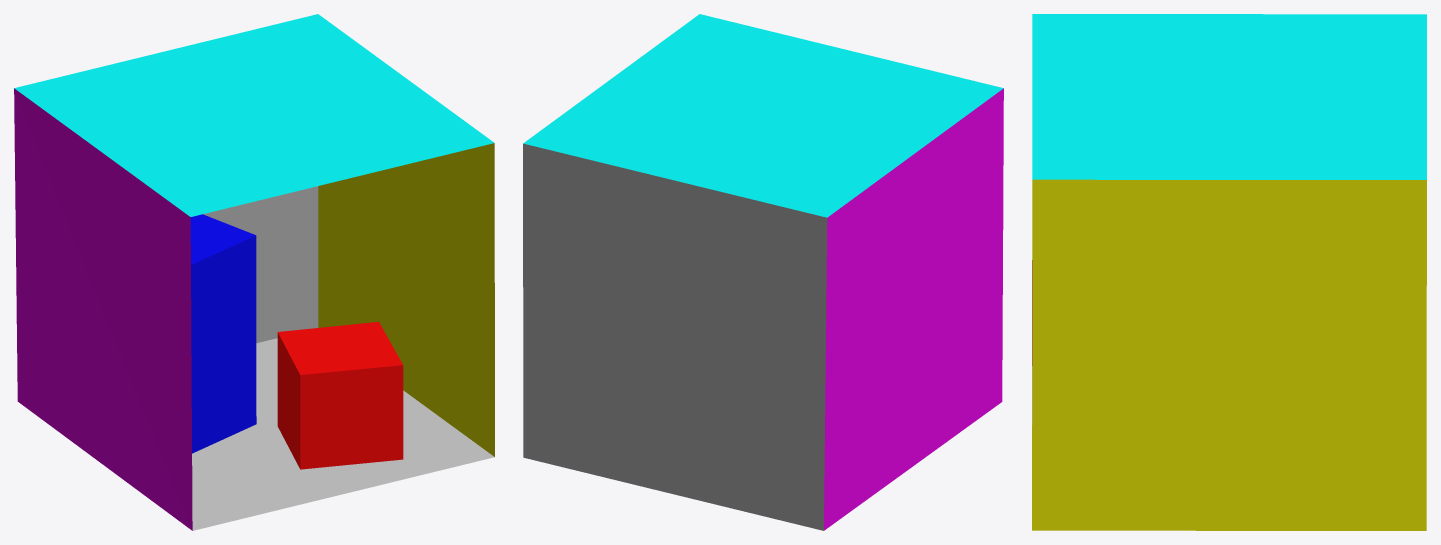
Rendered from textured-cornell-box.obj.
3 views of the same model, side by side, from view 1: azimuth 30°, elevation 25°; view 2: azimuth 150°, elevation 25°; view 3: azimuth 270°, elevation 25° (orthographic). The views are drawn at different scales.
Visible parts, largest first — view 1: left_wall, ceiling, right_wall, floor, short_box, tall_box_front, back_wall, tall_box; view 2: back_wall, left_wall, ceiling; view 3: right_wall, ceiling.
Part boxes in pixels (<box>): left_wall: <box>14,88,192,530</box>; ceiling: <box>14,14,494,216</box>; right_wall: <box>318,143,494,456</box>; floor: <box>192,338,494,530</box>; short_box: <box>277,322,403,469</box>; tall_box_front: <box>191,235,256,453</box>; back_wall: <box>203,186,318,343</box>; tall_box: <box>190,214,255,264</box>; back_wall: <box>523,143,827,530</box>; left_wall: <box>824,88,1003,530</box>; ceiling: <box>523,14,1003,217</box>; right_wall: <box>1032,179,1426,530</box>; ceiling: <box>1032,14,1426,179</box>.
Bounding box in the file's own units: 5.56 × 5.49 × 5.6.
